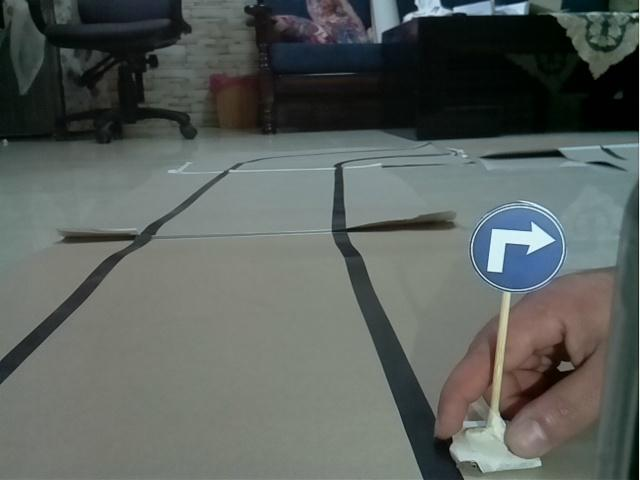turn: (469, 199, 565, 296)
